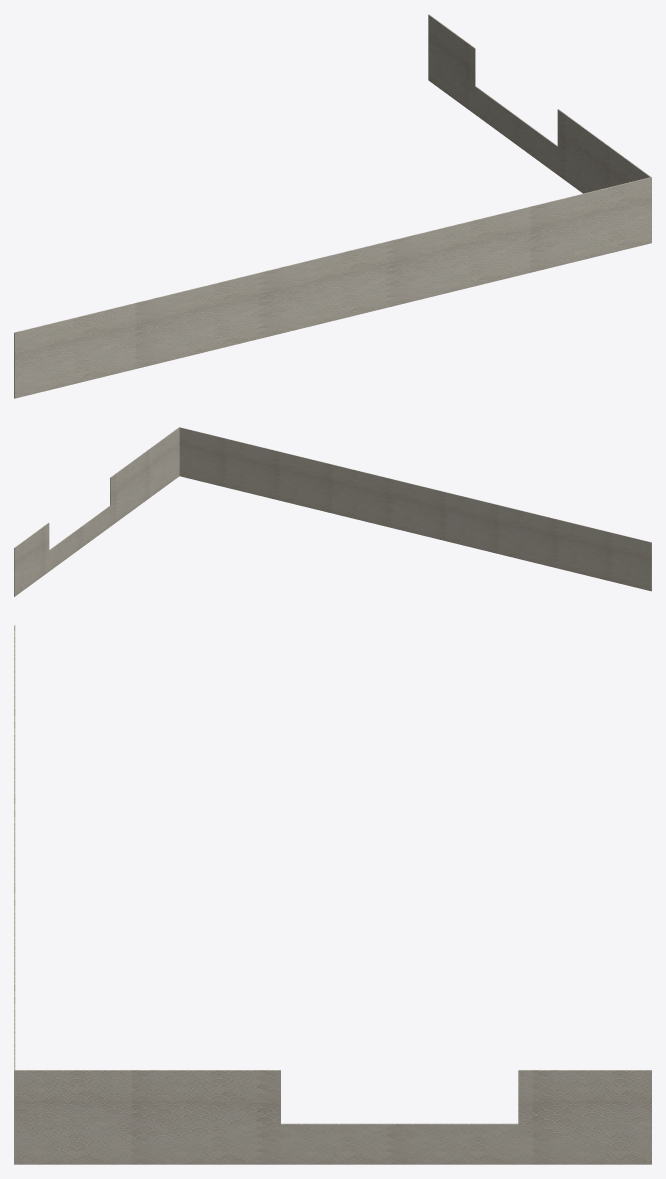
Rendered from BP_RevaliaRemixGracefulGreigeFan.glb.
3 views of the same model, one above another, from view 1: azimuth 30°, elevation 25°; view 2: azimuth 150°, elevation 25°; view 3: azimuth 270°, elevation 25° (orthographic). The views are drawn at different scales.
Parts seen in each view (by area): view 1: BP_Revalia Remix Graceful Greige Fan.; view 2: BP_Revalia Remix Graceful Greige Fan.; view 3: BP_Revalia Remix Graceful Greige Fan..
Boxes of the visible parts, x1,y1,x2,y2 form: BP_Revalia Remix Graceful Greige Fan.: [14, 14, 651, 398]; BP_Revalia Remix Graceful Greige Fan.: [14, 427, 651, 596]; BP_Revalia Remix Graceful Greige Fan.: [14, 625, 651, 1164].
Size of the model in its own units: 7.1 by 0.7 by 4.3.
1 material, 1 textured.
